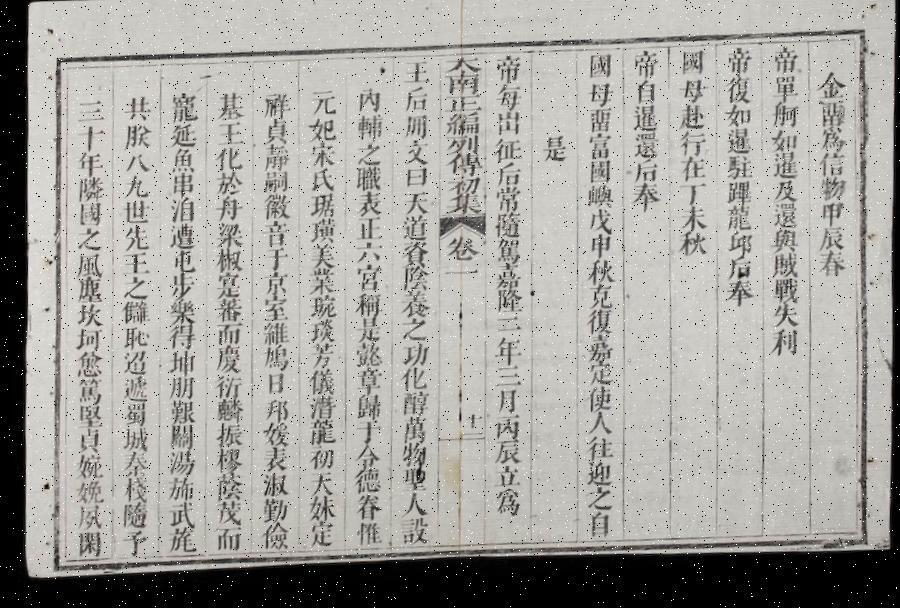c: (166, 92, 201, 126), (813, 78, 848, 112), (392, 520, 429, 551), (442, 240, 480, 270), (442, 116, 482, 144), (768, 54, 802, 86), (627, 190, 661, 222), (305, 90, 339, 122), (212, 92, 246, 124), (764, 338, 800, 368), (394, 295, 430, 325), (350, 266, 383, 298), (119, 93, 153, 124), (303, 270, 337, 301), (160, 527, 196, 556), (441, 77, 482, 102), (721, 84, 753, 116), (492, 60, 524, 92), (722, 55, 754, 87), (674, 212, 708, 242), (208, 474, 242, 504), (258, 92, 292, 122), (674, 110, 708, 140), (580, 314, 614, 344), (580, 342, 614, 372), (254, 524, 288, 554), (812, 260, 846, 290), (348, 470, 382, 500), (301, 497, 336, 526), (444, 158, 483, 184), (68, 452, 104, 480), (488, 492, 520, 523), (490, 341, 522, 372), (210, 346, 242, 377), (813, 160, 846, 190), (70, 350, 103, 380), (397, 244, 430, 274), (767, 161, 800, 191), (71, 276, 104, 306), (491, 89, 524, 119), (209, 448, 242, 478), (352, 118, 385, 148), (163, 273, 196, 303), (161, 501, 194, 531), (767, 111, 801, 140), (720, 136, 754, 165), (814, 110, 848, 139), (767, 84, 801, 113), (73, 123, 107, 152), (673, 238, 708, 266), (116, 300, 151, 328), (115, 501, 147, 531), (675, 84, 707, 114), (721, 288, 753, 318), (628, 112, 660, 142), (118, 224, 150, 254), (258, 195, 290, 225), (352, 194, 384, 224), (70, 528, 102, 558), (630, 56, 660, 88), (70, 376, 102, 406), (768, 286, 800, 316), (350, 371, 382, 401), (628, 138, 660, 168), (116, 374, 148, 404), (348, 496, 380, 526), (814, 234, 846, 264), (538, 140, 568, 172), (116, 450, 148, 480), (400, 62, 432, 92), (211, 223, 244, 252), (303, 371, 336, 400), (73, 96, 106, 125), (208, 502, 242, 530), (674, 138, 708, 166), (162, 325, 196, 353), (209, 375, 243, 403), (210, 147, 244, 175), (120, 124, 154, 152), (68, 478, 102, 506), (766, 312, 800, 340), (580, 392, 614, 420), (116, 426, 150, 454), (394, 495, 428, 523), (400, 144, 431, 174), (399, 90, 430, 120), (353, 90, 384, 120), (260, 120, 291, 150), (306, 220, 337, 250), (70, 502, 101, 532), (350, 397, 382, 426), (210, 273, 242, 302), (258, 222, 290, 251), (73, 175, 105, 204), (722, 213, 754, 242), (303, 421, 335, 450), (162, 450, 194, 479), (304, 245, 336, 274), (491, 192, 523, 221), (164, 198, 196, 227), (260, 147, 292, 176), (115, 529, 147, 558), (768, 212, 800, 241), (490, 243, 522, 272), (395, 420, 427, 449), (490, 269, 522, 298), (256, 474, 288, 503), (212, 122, 245, 150), (70, 302, 103, 330), (397, 270, 430, 298), (166, 124, 199, 152), (164, 300, 197, 328), (491, 143, 524, 171), (305, 120, 338, 148), (582, 266, 615, 294), (580, 442, 613, 470), (580, 467, 613, 495), (301, 524, 334, 552), (488, 444, 521, 472), (256, 423, 290, 450), (160, 477, 194, 504), (116, 252, 151, 278), (584, 214, 614, 244), (584, 58, 614, 88), (676, 56, 706, 86), (584, 87, 615, 116), (491, 218, 522, 247), (165, 224, 196, 253), (258, 273, 289, 302), (116, 476, 148, 504), (814, 210, 846, 238), (302, 474, 334, 502), (256, 500, 288, 528), (398, 194, 430, 222), (396, 395, 428, 423), (164, 400, 196, 428), (256, 448, 288, 476), (210, 299, 242, 327), (258, 398, 290, 426), (722, 163, 754, 191), (210, 399, 242, 427), (210, 423, 242, 451), (350, 296, 382, 324), (211, 172, 243, 200), (257, 347, 289, 375), (210, 249, 242, 277), (676, 164, 708, 192), (306, 146, 338, 174), (350, 346, 382, 374), (210, 197, 242, 225), (351, 170, 383, 198), (305, 196, 337, 224), (116, 400, 148, 428), (768, 262, 800, 290), (256, 298, 288, 326), (350, 320, 382, 348), (722, 240, 754, 268), (395, 446, 427, 474), (814, 186, 846, 214), (722, 263, 754, 291), (395, 470, 427, 498), (117, 325, 150, 352), (397, 347, 430, 374), (163, 351, 196, 378), (70, 403, 103, 430), (72, 150, 105, 177), (490, 295, 523, 322), (766, 238, 800, 264), (348, 524, 382, 550), (766, 138, 800, 164), (443, 198, 481, 221), (584, 140, 614, 169), (492, 116, 522, 145), (117, 350, 148, 378), (304, 345, 335, 373), (722, 188, 753, 216), (583, 190, 614, 218), (349, 446, 380, 474), (583, 290, 614, 318), (396, 370, 428, 397), (258, 323, 290, 350), (396, 322, 428, 349), (304, 297, 336, 324), (118, 200, 150, 227), (396, 220, 428, 247), (814, 136, 846, 163), (580, 493, 612, 520), (440, 98, 483, 118), (208, 528, 241, 554), (442, 140, 481, 162), (489, 370, 522, 396), (351, 244, 384, 270), (72, 252, 102, 280), (630, 166, 660, 194), (119, 174, 149, 202), (72, 226, 102, 254), (166, 148, 196, 176), (72, 426, 102, 454), (581, 518, 611, 546), (164, 425, 194, 453), (303, 448, 334, 475), (305, 321, 336, 348), (306, 171, 337, 198), (489, 419, 520, 446), (164, 376, 195, 403), (349, 423, 381, 449), (117, 276, 149, 302), (721, 112, 753, 138), (352, 220, 384, 246), (304, 398, 336, 424), (581, 418, 613, 444), (70, 326, 102, 352), (443, 59, 482, 80), (166, 174, 196, 201), (584, 115, 614, 142), (492, 168, 522, 195), (400, 119, 430, 146), (74, 200, 104, 227), (259, 249, 290, 275), (582, 368, 613, 394), (353, 146, 384, 172), (210, 324, 242, 349), (488, 470, 520, 495), (120, 152, 152, 177), (675, 190, 707, 215), (491, 394, 520, 421), (584, 241, 614, 267), (166, 250, 196, 276), (768, 188, 798, 214), (259, 173, 290, 198), (630, 87, 658, 114), (444, 182, 480, 202), (400, 171, 430, 195), (490, 320, 522, 342), (586, 167, 612, 193), (260, 373, 287, 398), (442, 270, 477, 285), (460, 416, 481, 436), (457, 436, 481, 442)
